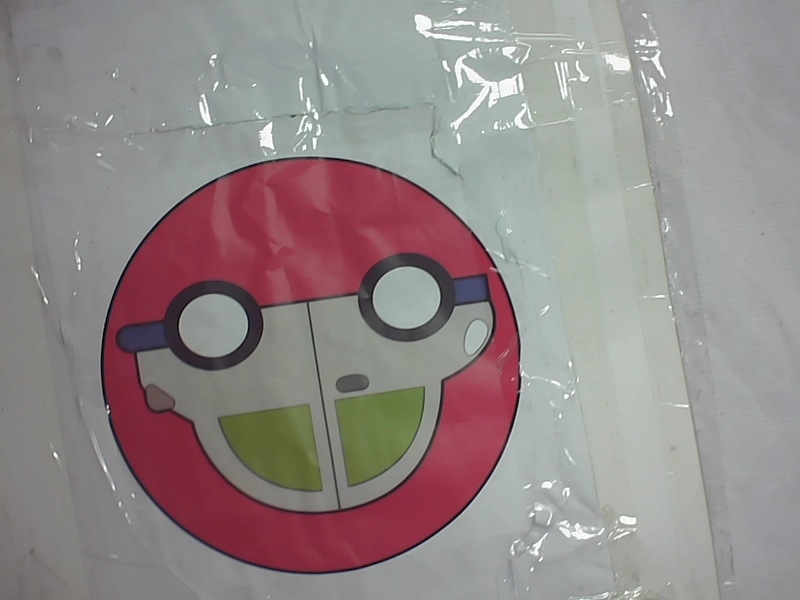areaC: (90, 149, 547, 580)
